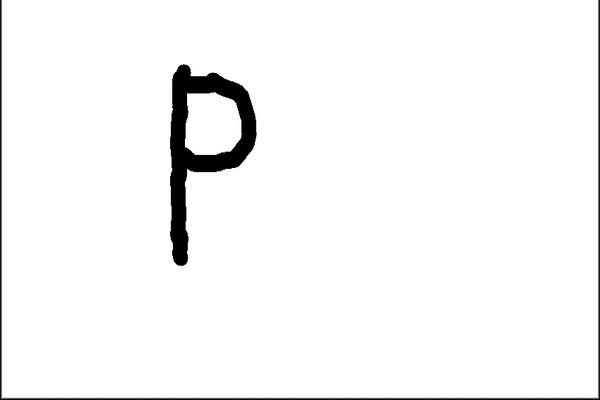P: (152, 53, 274, 272)
